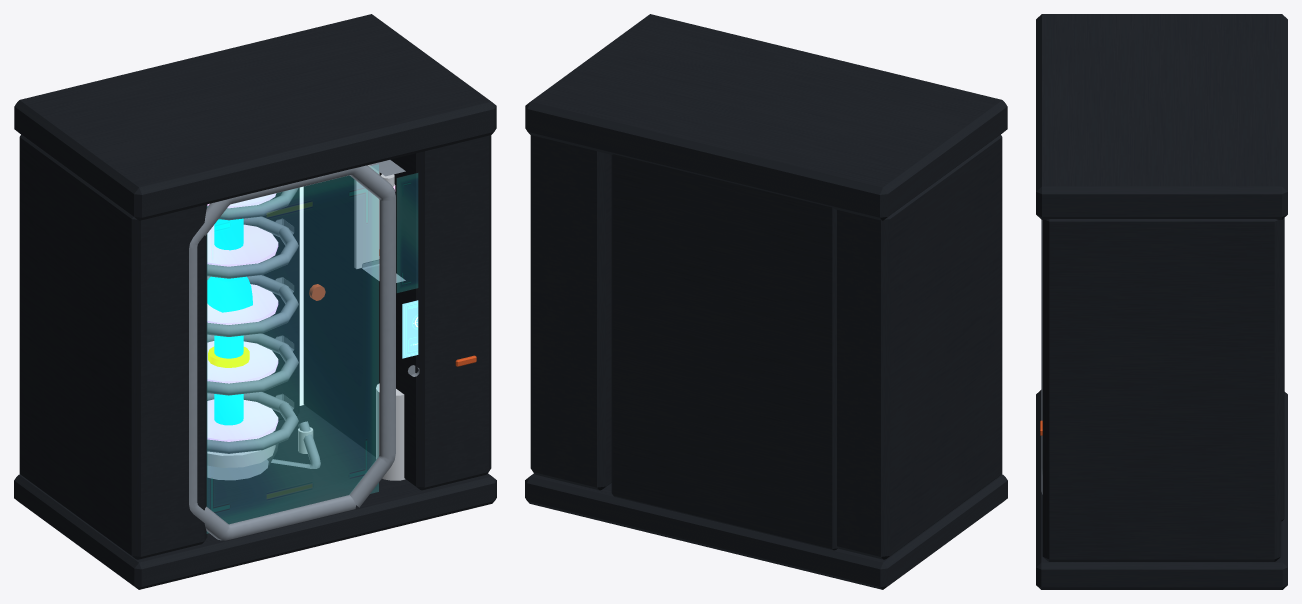
The model's file is reactor_core_r1_01.glb.
3 views of the same model, side by side, from view 1: azimuth 30°, elevation 25°; view 2: azimuth 150°, elevation 25°; view 3: azimuth 270°, elevation 25° (orthographic).
Parts seen in each view (by area): view 1: Reactor01_OctagonalGunmetalVessel, Reactor01_TranslucentRadiationShields, Reactor01_ToroidalCoilsAndCryoPipes, Reactor01_UVFieldCoilsAndRodTips, Reactor01_WhiteModeratorRodsAndDewars, Reactor01_CyanPlasmaSpindleCore, Reactor01_OLEDPlasmaTelemetryConsole; view 2: Reactor01_OctagonalGunmetalVessel; view 3: Reactor01_OctagonalGunmetalVessel, Reactor01_ToroidalCoilsAndCryoPipes.
Boxes of the visible parts, box(x1,y1,x2,y2) form: Reactor01_OctagonalGunmetalVessel: box(14, 14, 496, 589); Reactor01_TranslucentRadiationShields: box(207, 165, 417, 532); Reactor01_ToroidalCoilsAndCryoPipes: box(189, 160, 419, 540); Reactor01_UVFieldCoilsAndRodTips: box(207, 184, 395, 441); Reactor01_WhiteModeratorRodsAndDewars: box(207, 165, 405, 480); Reactor01_CyanPlasmaSpindleCore: box(207, 218, 252, 425); Reactor01_OLEDPlasmaTelemetryConsole: box(402, 300, 418, 358); Reactor01_OctagonalGunmetalVessel: box(525, 14, 1007, 589); Reactor01_OctagonalGunmetalVessel: box(1036, 14, 1287, 589); Reactor01_ToroidalCoilsAndCryoPipes: box(1041, 220, 1042, 494).
Size of the model in its own units: 2.5 by 2.65 by 1.5.
9 materials, 9 textured.
